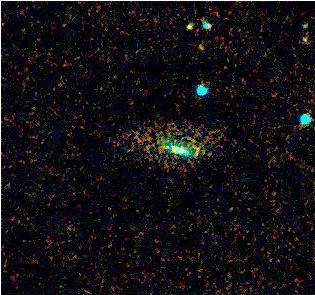star: (171, 11, 201, 41)
